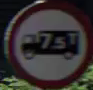Heavy Vehicles: (7, 8, 90, 82)
